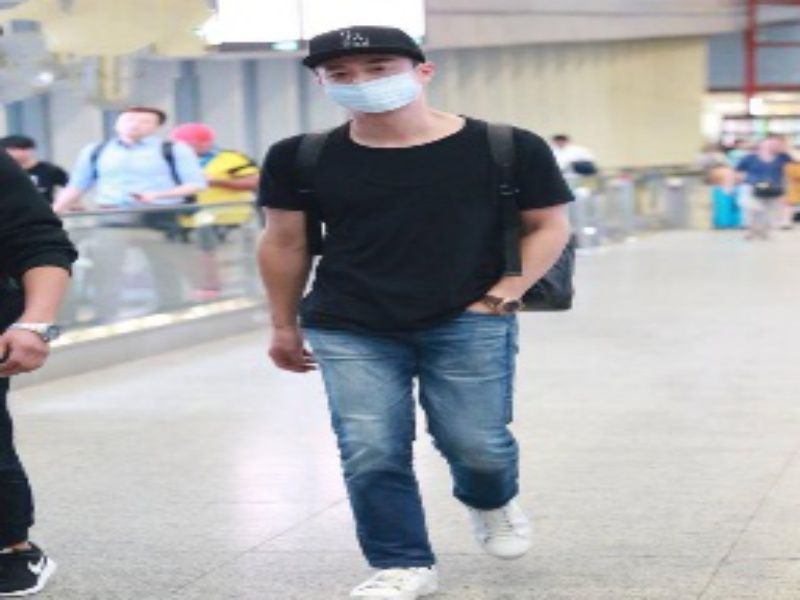ManaoArotava: (289, 12, 456, 138)
